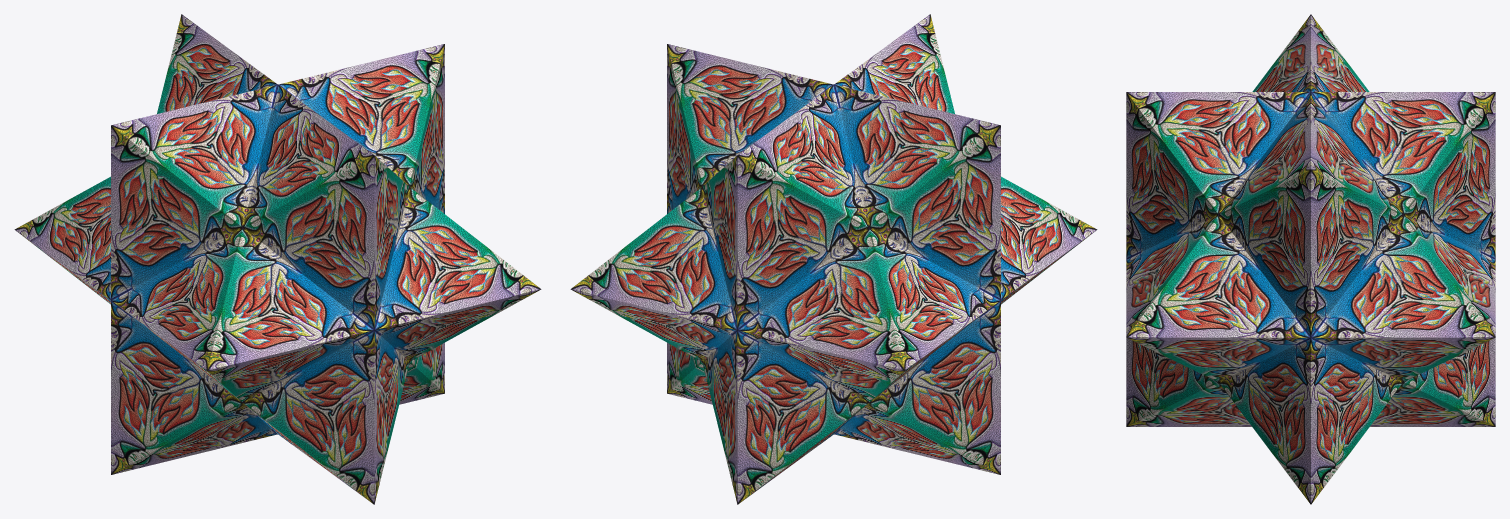
Rendered from Escher10.obj.
The picture shows the model from 3 angles, left to right: view 1: azimuth 30°, elevation 25°; view 2: azimuth 150°, elevation 25°; view 3: azimuth 270°, elevation 25°; orthographic projection. The views are drawn at different scales.
Size of the model in its own units: 2 by 2 by 2.
1 material, 1 textured.
